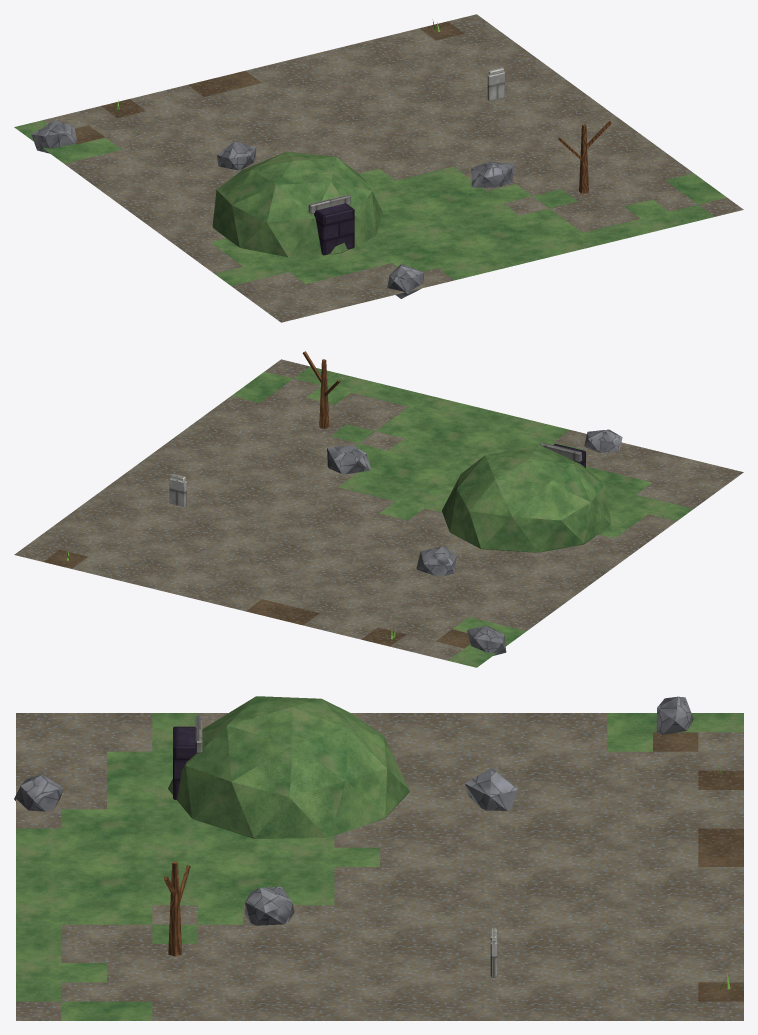
Rendered from chunk_2_19.glb.
3 renders of one model, top to bottom at view 1: azimuth 30°, elevation 25°; view 2: azimuth 150°, elevation 25°; view 3: azimuth 270°, elevation 25°, orthographic. The views are drawn at different scales.
Parts seen in each view (by area): view 1: chunk_2_19; view 2: chunk_2_19; view 3: chunk_2_19.
Boxes of the visible parts, bbox=[...] form: chunk_2_19: bbox=[14, 14, 743, 322]; chunk_2_19: bbox=[14, 351, 743, 667]; chunk_2_19: bbox=[14, 696, 743, 1020].
Bounding box in the file's own units: 16.15 × 4.21 × 16.04.
10 materials, 9 textured.
